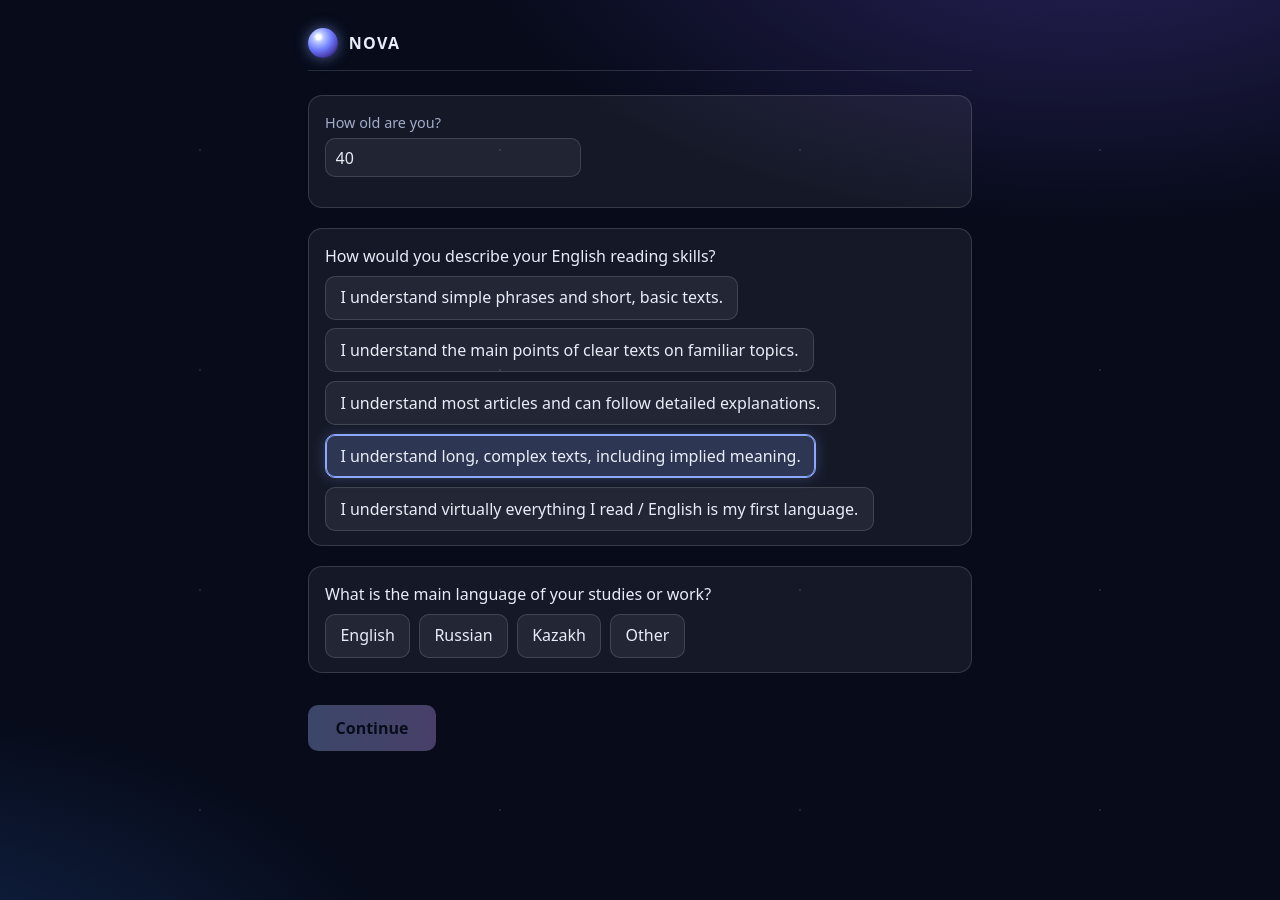
Test case: allocation on the single public link › says the study is full when the sequence has run out, and records no allocation
Earlier steps of the test are not shown.
Click the radio button with test id "study-language-Kazakh" at (559, 636), box [517,614,601,658]
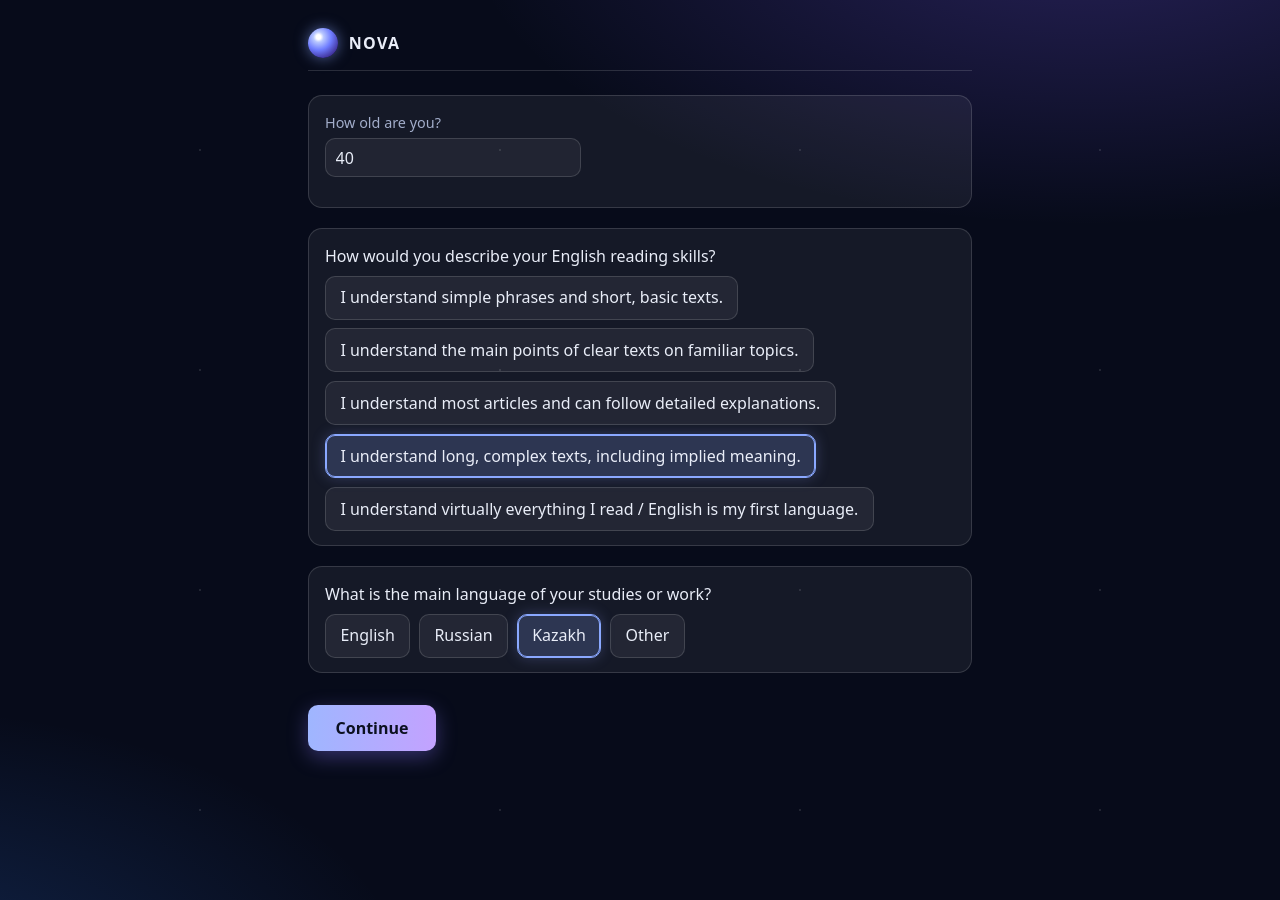
Click the button with test id "screening-submit" at (372, 728), box [308,705,436,751]
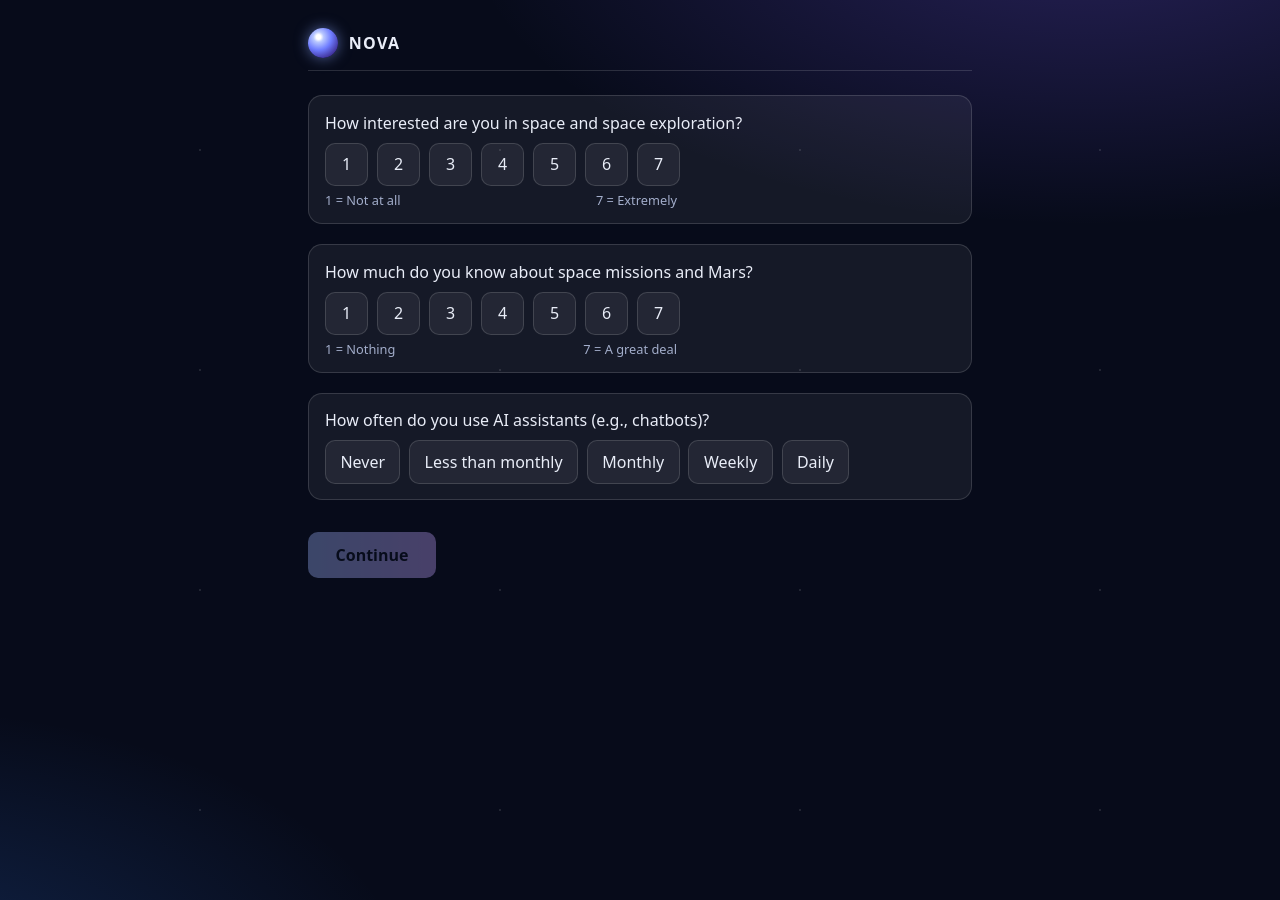
Click the 1st radio button labelled "4" at (503, 164), box [481,143,524,186]
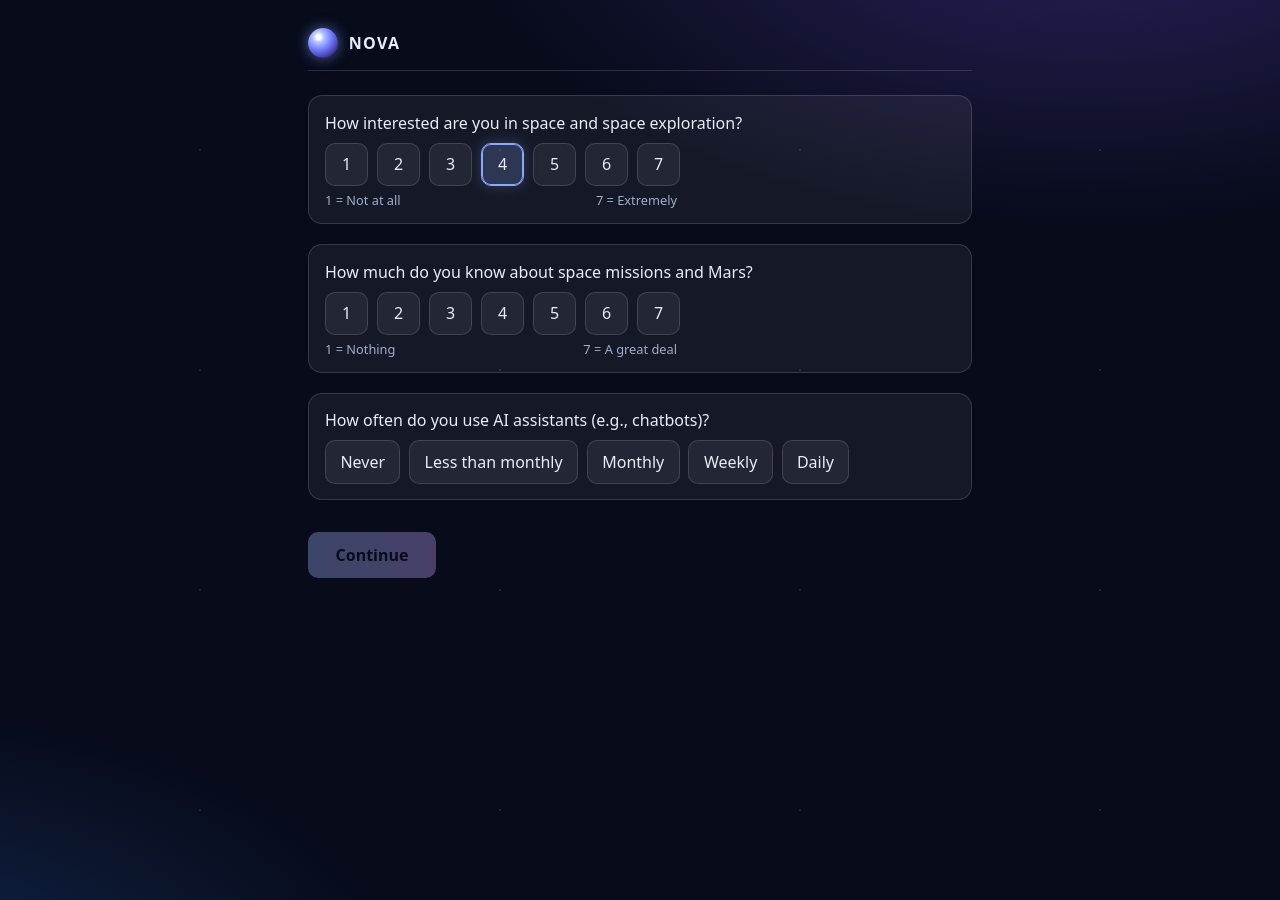
Click the 2nd radio button labelled "4" at (503, 313), box [481,292,524,335]
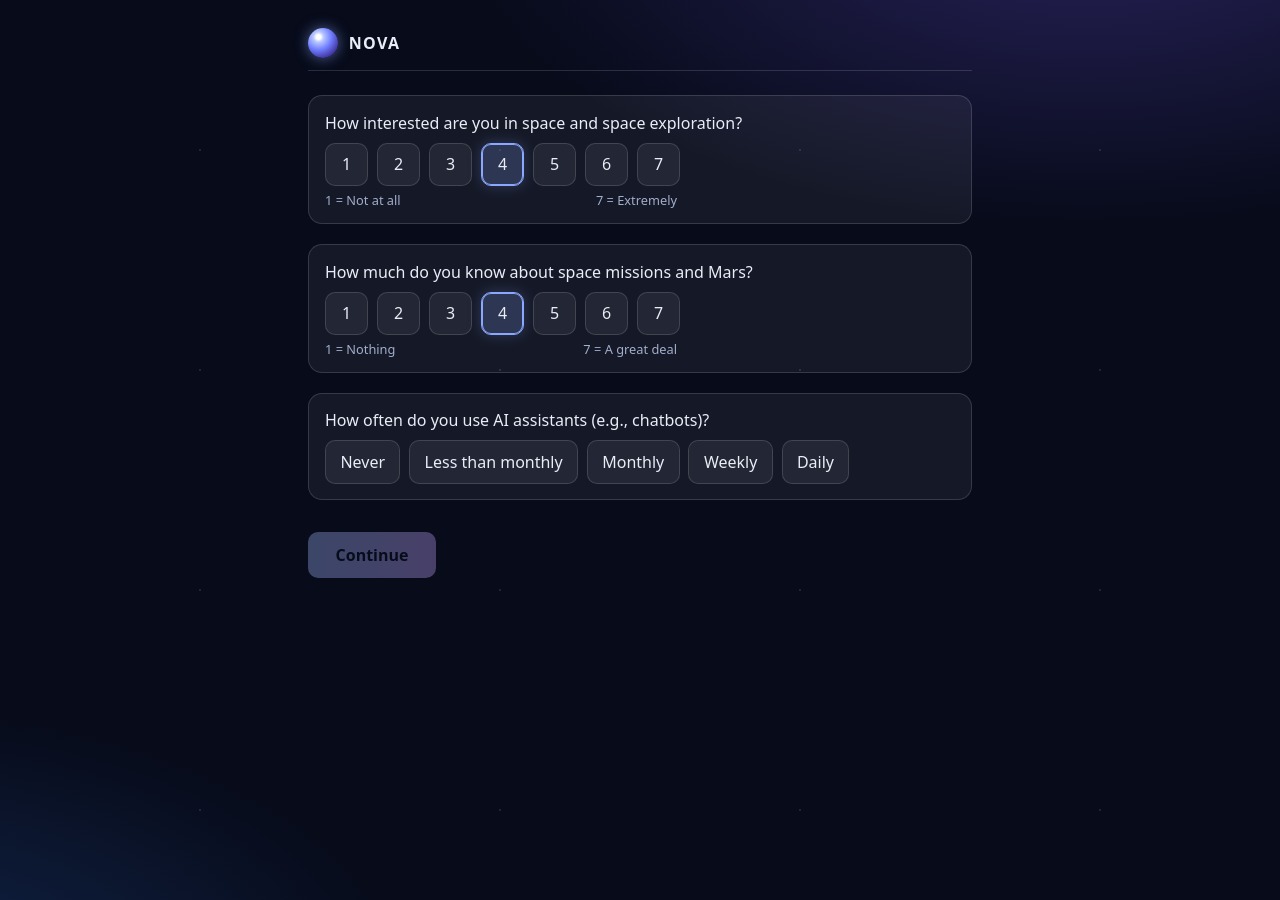
Click the radio button with test id "P3-2" at (494, 462), box [409,440,578,484]
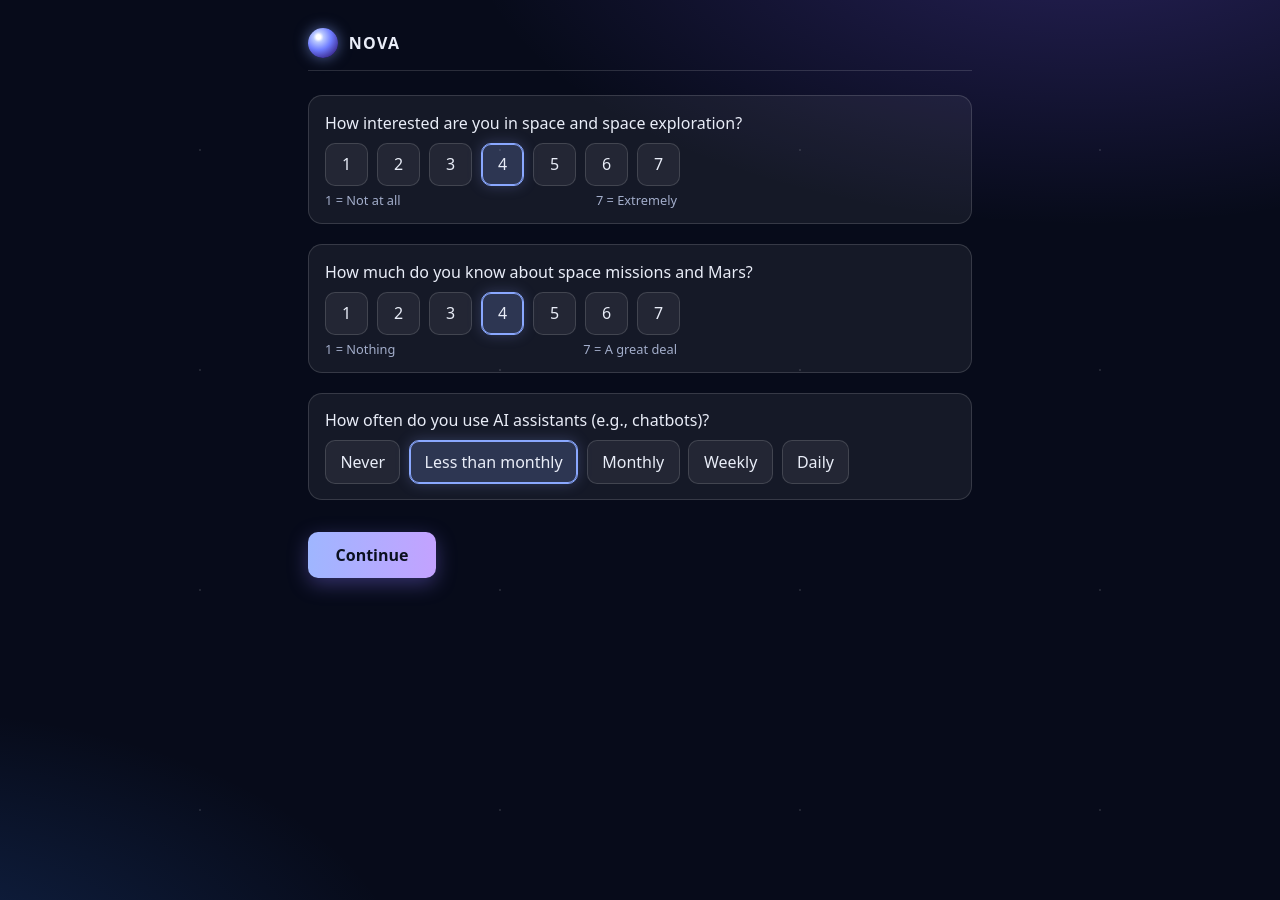
Click the button with test id "pre-submit" at (372, 555), box [308,532,436,578]
Wait 10 ms
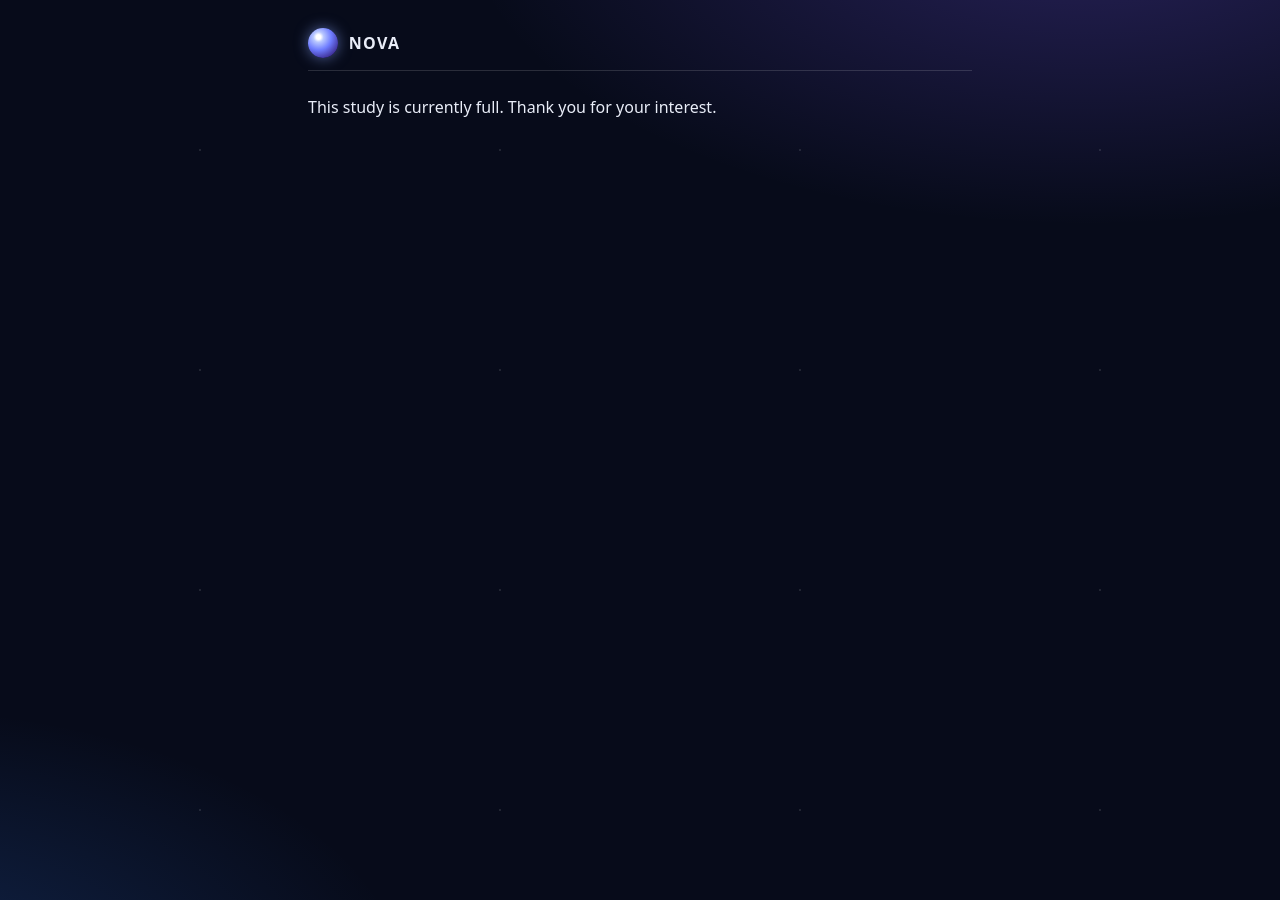
Check: the element with test id "screen-full" is shown, box [308,96,716,118]
